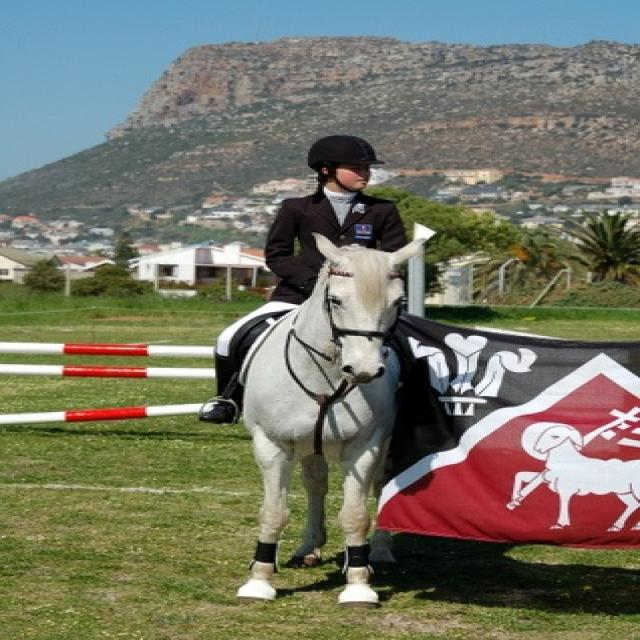horse: (232, 233, 424, 610)
